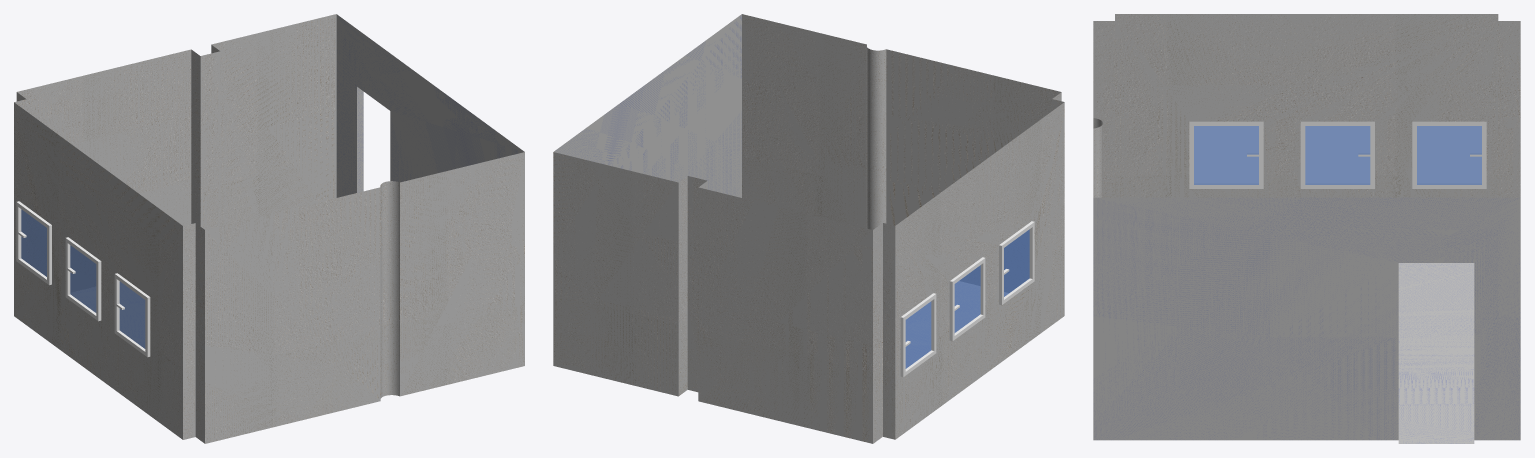
File: COM007.obj
3 renders of one model, left to right at view 1: azimuth 30°, elevation 25°; view 2: azimuth 150°, elevation 25°; view 3: azimuth 270°, elevation 25°, orthographic. The views are drawn at different scales.
Visible parts, largest first — view 1: Mesh10 COM007 Model, Mesh4 ventana3_1_2 COM007 Model, Mesh7 ventana3_1_3 COM007 Model, Mesh1 ventana3_1_1 COM007 Model; view 2: Mesh10 COM007 Model, Mesh1 ventana3_1_1 COM007 Model, Mesh4 ventana3_1_2 COM007 Model, Mesh7 ventana3_1_3 COM007 Model; view 3: Mesh10 COM007 Model, Mesh1 ventana3_1_1 COM007 Model, Mesh7 ventana3_1_3 COM007 Model, Mesh4 ventana3_1_2 COM007 Model.
Part boxes in pixels (left/top/right/bottom): Mesh10 COM007 Model: left=14, top=14, right=524, bottom=443; Mesh4 ventana3_1_2 COM007 Model: left=65, top=237, right=101, bottom=321; Mesh7 ventana3_1_3 COM007 Model: left=114, top=273, right=150, bottom=357; Mesh1 ventana3_1_1 COM007 Model: left=16, top=201, right=51, bottom=285; Mesh10 COM007 Model: left=553, top=14, right=1064, bottom=443; Mesh1 ventana3_1_1 COM007 Model: left=900, top=293, right=936, bottom=377; Mesh4 ventana3_1_2 COM007 Model: left=949, top=257, right=985, bottom=340; Mesh7 ventana3_1_3 COM007 Model: left=999, top=221, right=1034, bottom=305; Mesh10 COM007 Model: left=1093, top=14, right=1520, bottom=443; Mesh1 ventana3_1_1 COM007 Model: left=1412, top=121, right=1486, bottom=188; Mesh7 ventana3_1_3 COM007 Model: left=1189, top=121, right=1263, bottom=188; Mesh4 ventana3_1_2 COM007 Model: left=1300, top=121, right=1374, bottom=188.
Bounding box in the file's own units: 6.02 × 3.6 × 5.75.
